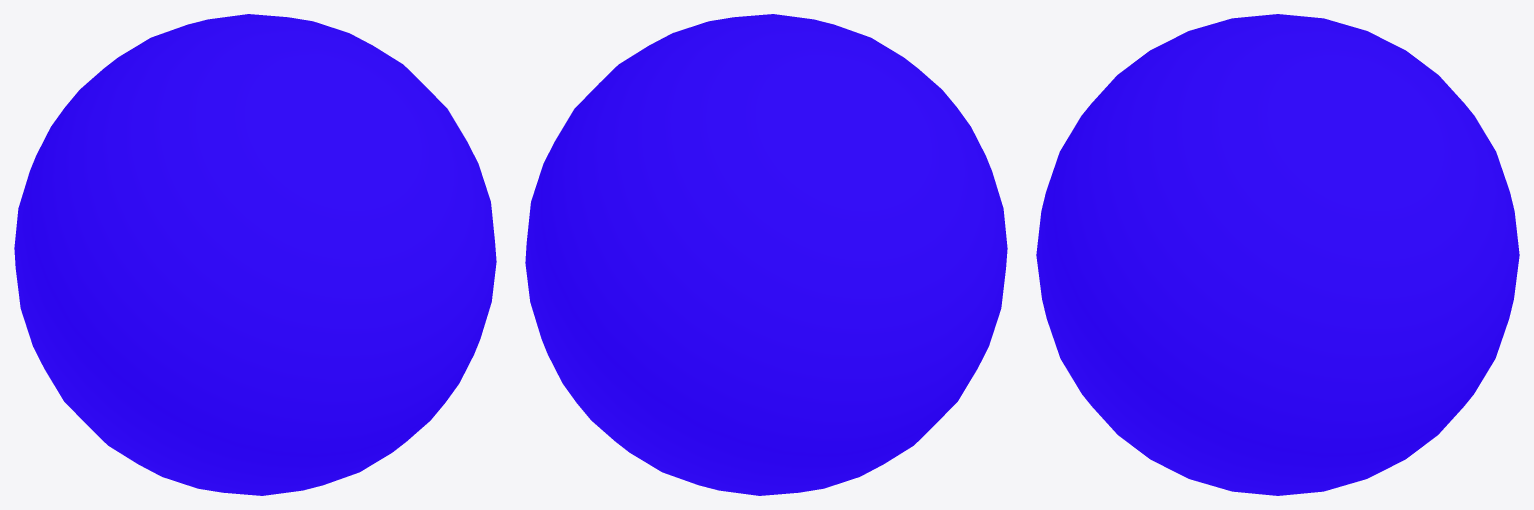
Rendered from MageBullet.fbx.
The picture shows the model from 3 angles, left to right: view 1: azimuth 30°, elevation 25°; view 2: azimuth 150°, elevation 25°; view 3: azimuth 270°, elevation 25°; orthographic projection.
Parts seen in each view (by area): view 1: MageBullet; view 2: MageBullet; view 3: MageBullet.
Part boxes in pixels (box(x1,y1,x2,y2)): MageBullet: box(14, 14, 496, 495); MageBullet: box(525, 14, 1007, 495); MageBullet: box(1036, 14, 1519, 495).
Size of the model in its own units: 0.6 by 0.6 by 0.6.
